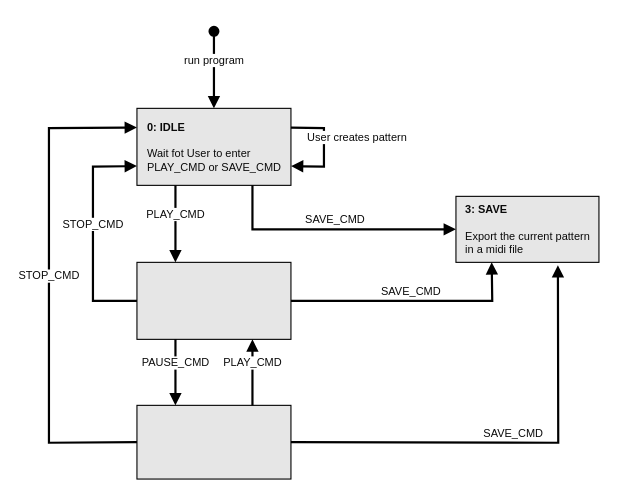
The diagram is 618 pixels wide and 498 high, and some of its shapes have lost their labels. Here are the shapes that lost their labels. From the top down, the centre of each, then its label:
[213,300]: 1: PLAYBACK Play the pattern in loop
[213,441]: 2: PAUSE Pause the pattern
